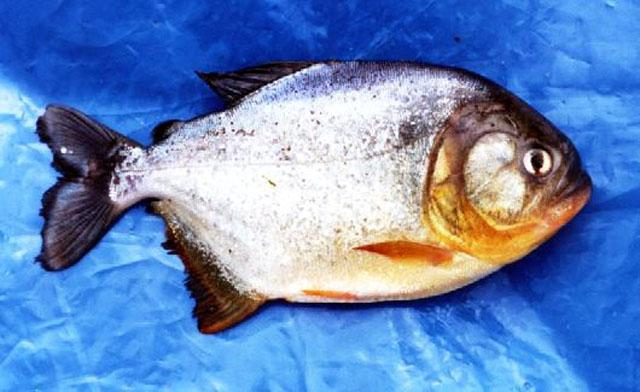Mulut: (523, 144, 609, 236)
Sirip Anal: (140, 189, 276, 349)
Sirip Dada: (344, 228, 468, 284)
Sirip Ekor: (20, 92, 156, 284)
Sirip Perut: (291, 277, 374, 321)
Sirip Punggung: (141, 52, 345, 152)
